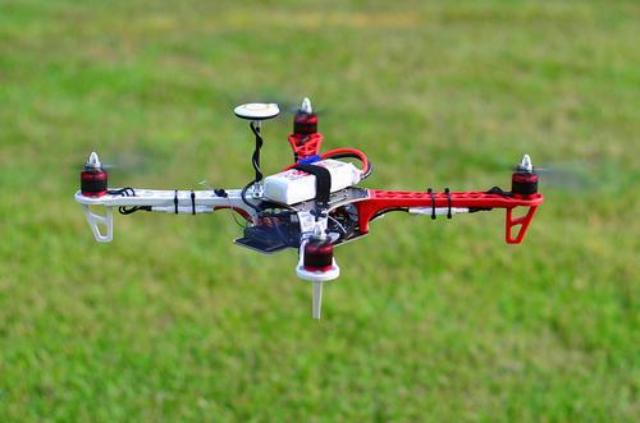drone: (75, 101, 547, 321)
